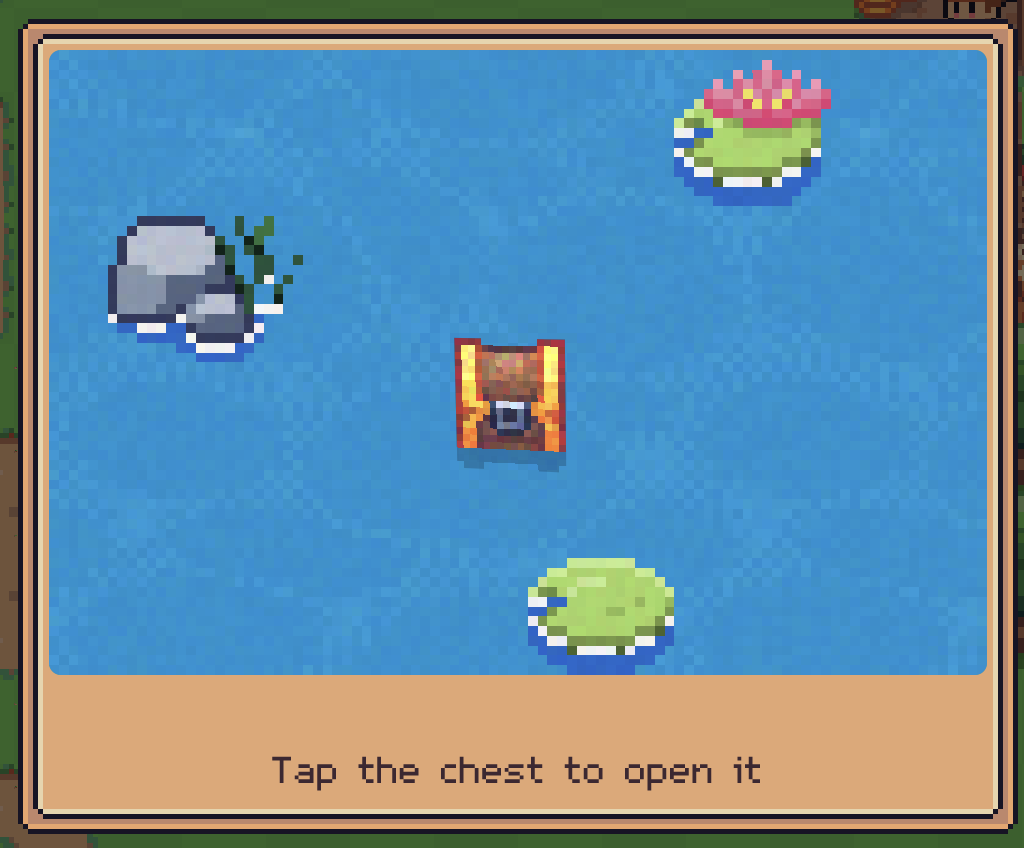capcha_chest: (451, 339, 568, 456)
